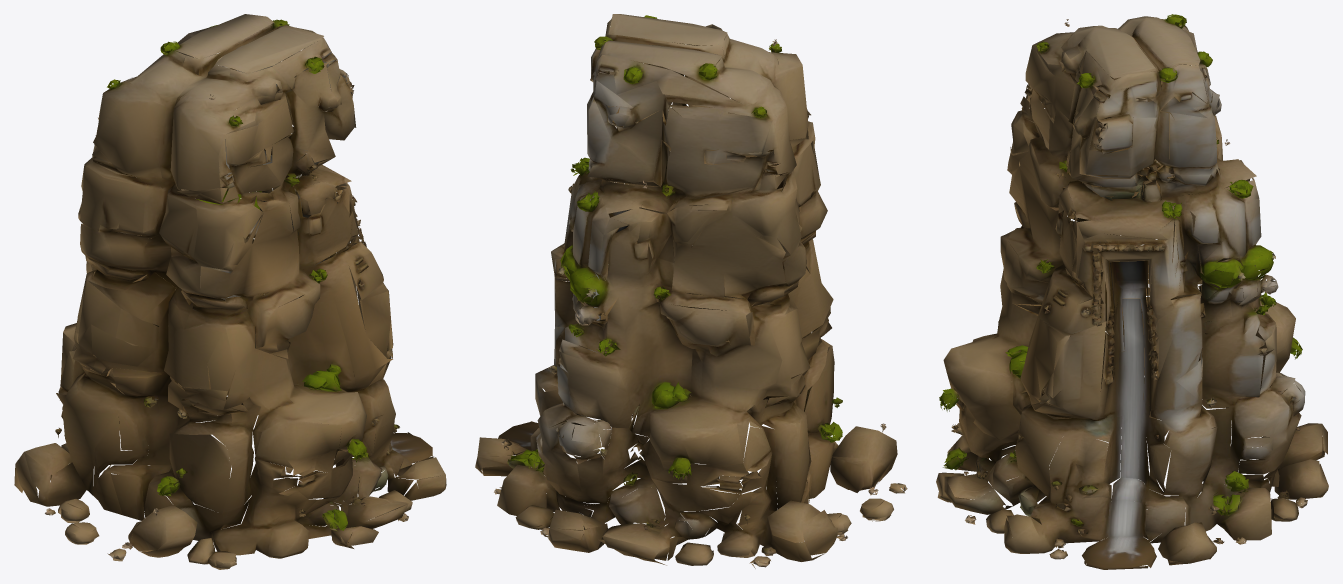
The model's file is ch7_waterfall_cliff_LOD1.glb.
3 views of the same model, side by side, from view 1: azimuth 30°, elevation 25°; view 2: azimuth 150°, elevation 25°; view 3: azimuth 270°, elevation 25° (orthographic). The views are drawn at different scales.
Visible parts, largest first — view 1: tripo_node_9d7ade54-06a1-4f0d-8d2b-cd53d888e29c; view 2: tripo_node_9d7ade54-06a1-4f0d-8d2b-cd53d888e29c; view 3: tripo_node_9d7ade54-06a1-4f0d-8d2b-cd53d888e29c.
Boxes of the visible parts, x1=… form: tripo_node_9d7ade54-06a1-4f0d-8d2b-cd53d888e29c: x1=14, y1=14, x2=446, y2=569; tripo_node_9d7ade54-06a1-4f0d-8d2b-cd53d888e29c: x1=475, y1=14, x2=907, y2=568; tripo_node_9d7ade54-06a1-4f0d-8d2b-cd53d888e29c: x1=936, y1=14, x2=1328, y2=569.
Size of the model in its own units: 0.8691 by 0.997 by 0.7945.
1 material, 1 textured.
